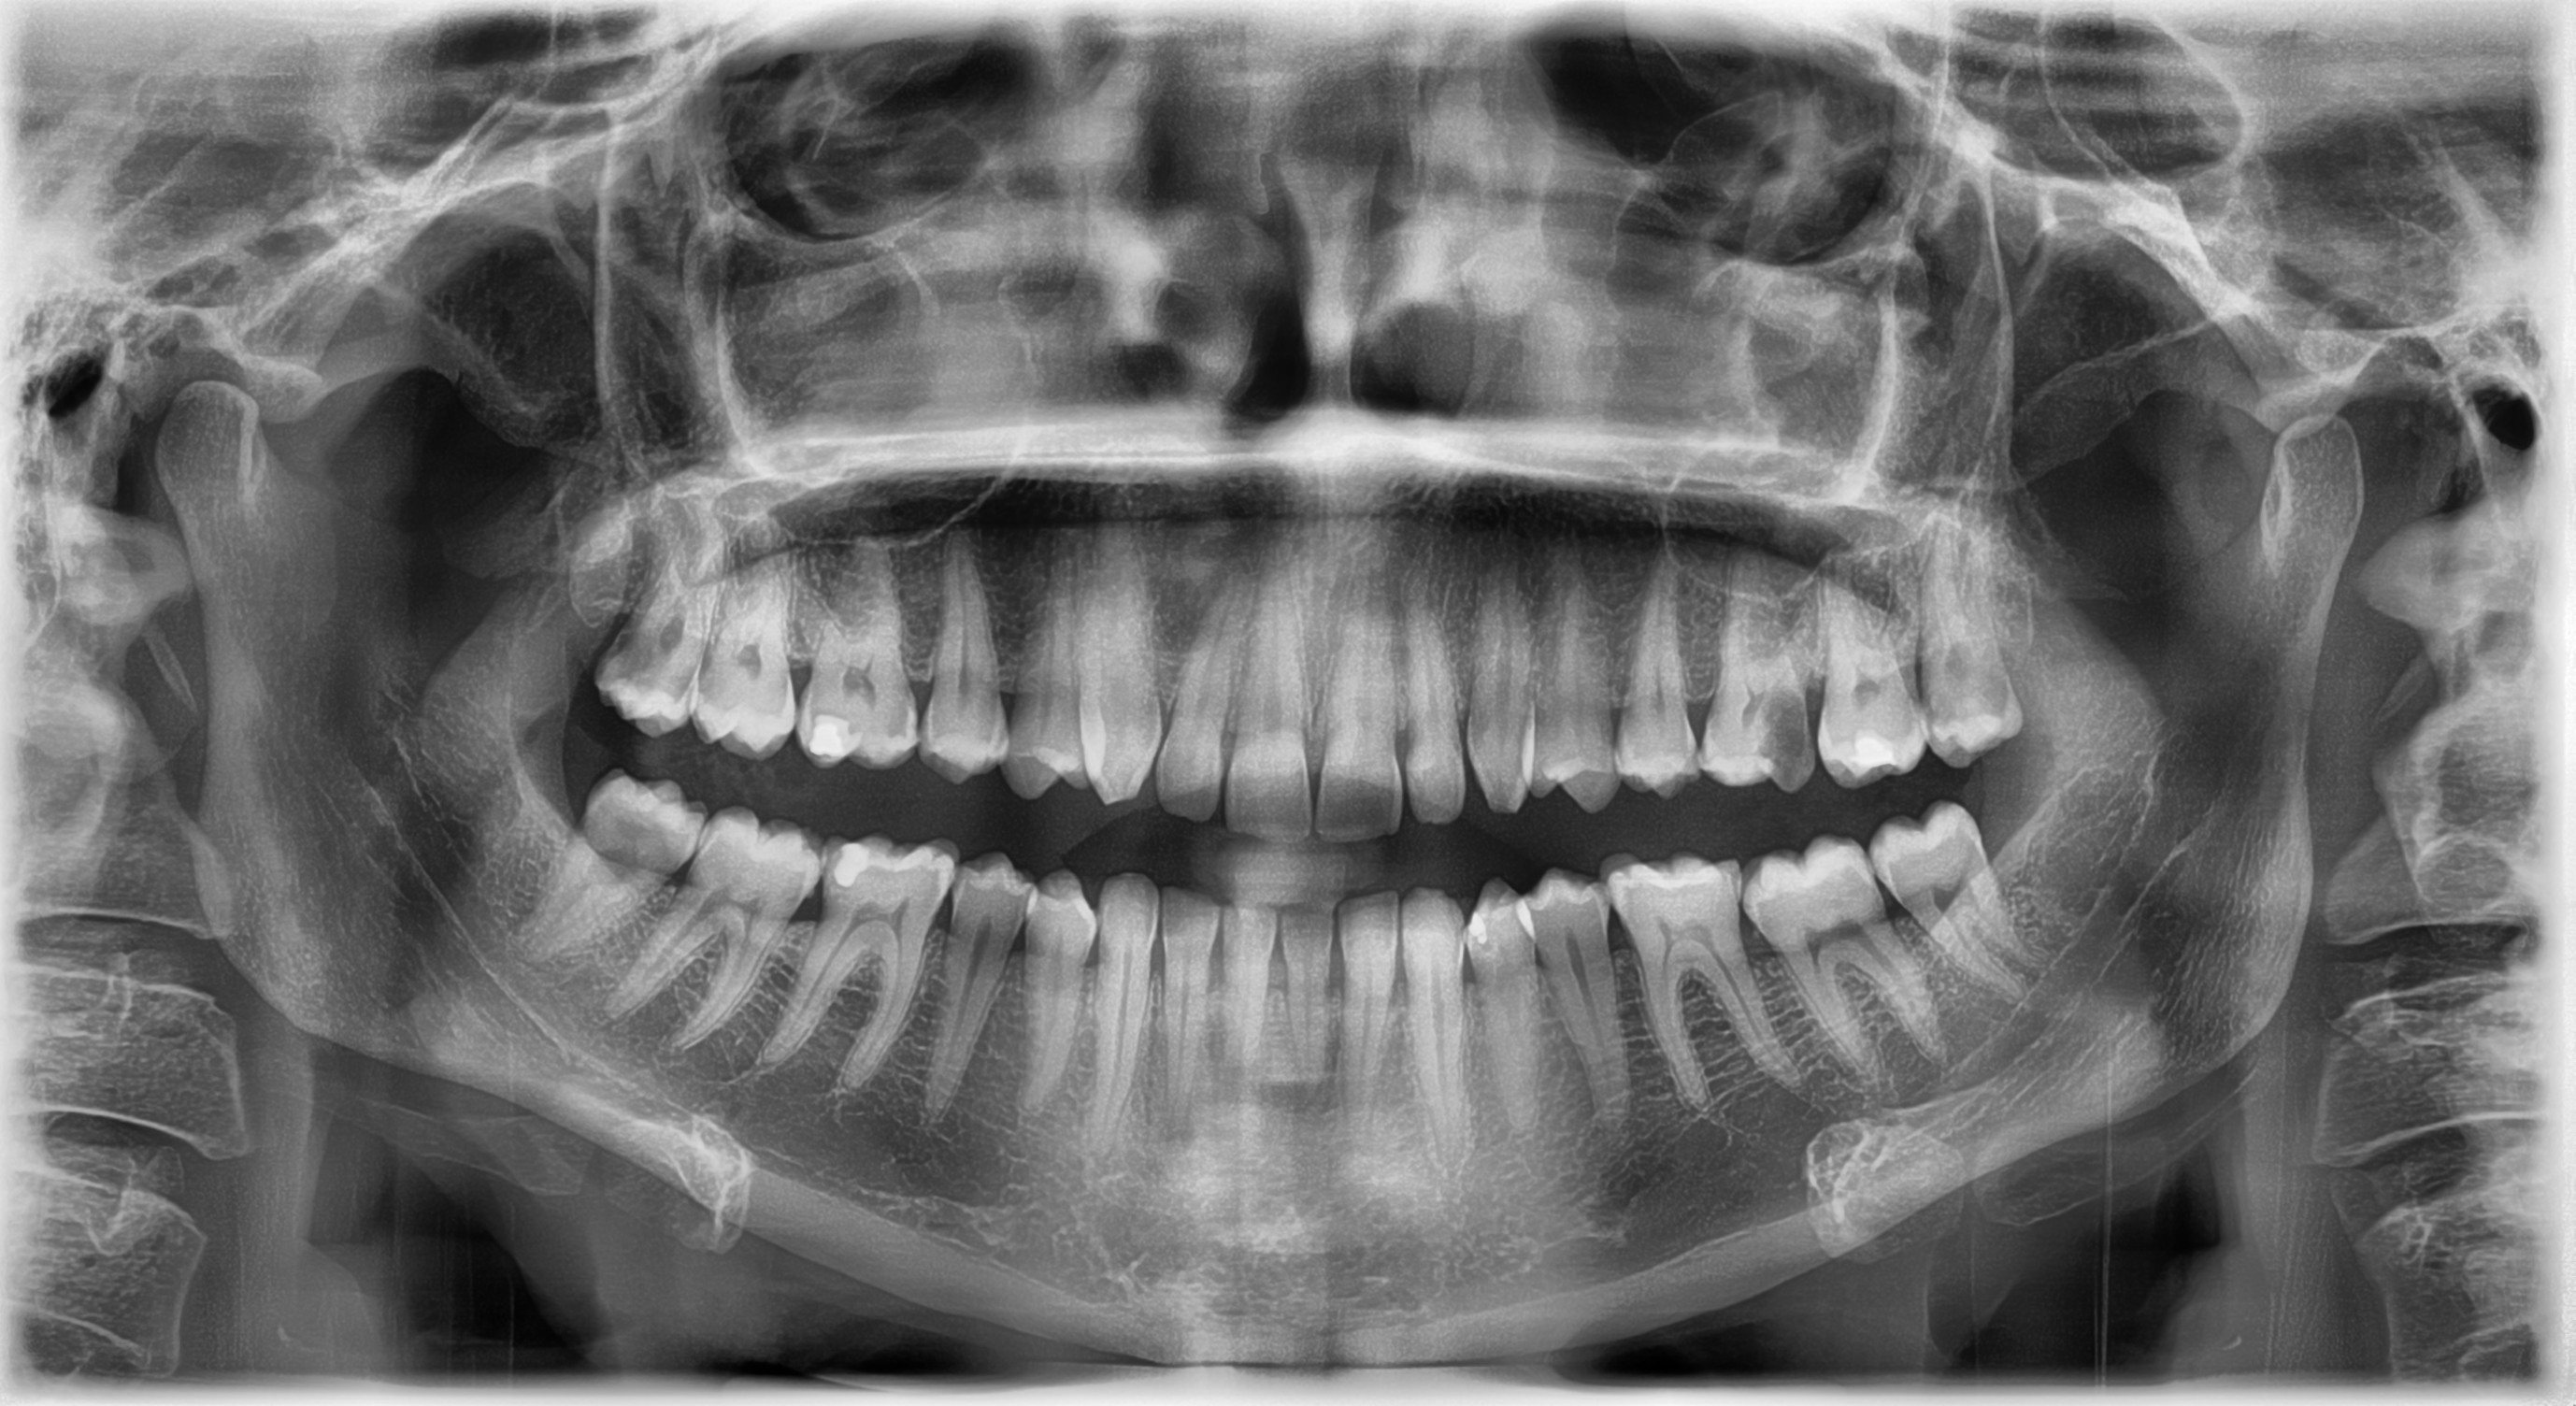caries: (1681, 587, 1835, 819)
cordal: (518, 746, 724, 989), (1837, 771, 2043, 1013), (1866, 530, 2072, 771), (570, 533, 734, 765)
diente_rotado: (1068, 528, 1172, 816)
